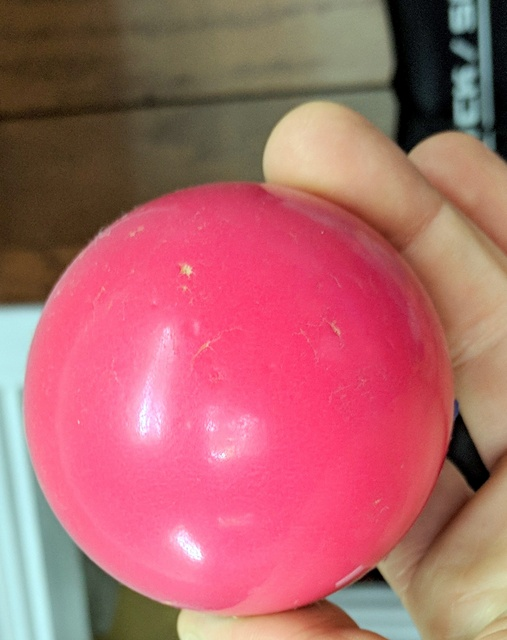ball: (27, 181, 457, 617)
